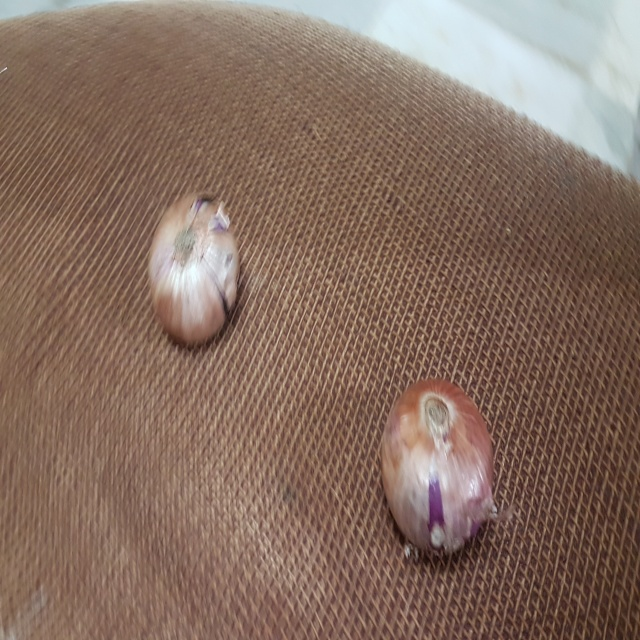onion: (361, 373, 511, 581), (128, 194, 265, 356)
